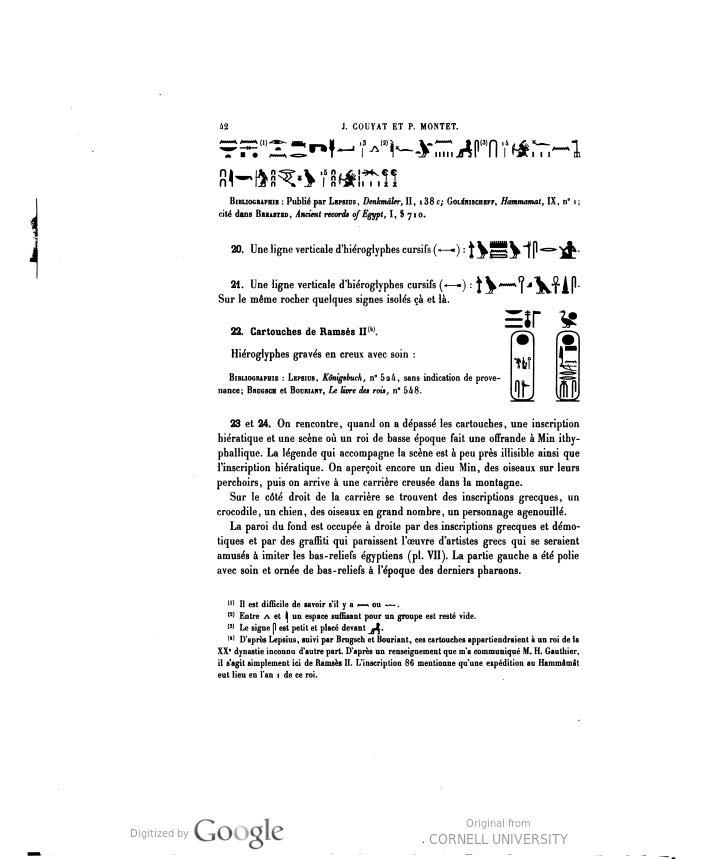circle: (492, 318, 547, 405), (547, 323, 591, 406)
